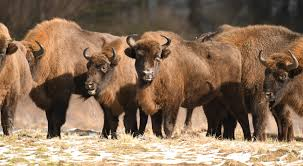zubr: (125, 24, 253, 142), (79, 39, 139, 129), (253, 29, 303, 117)
